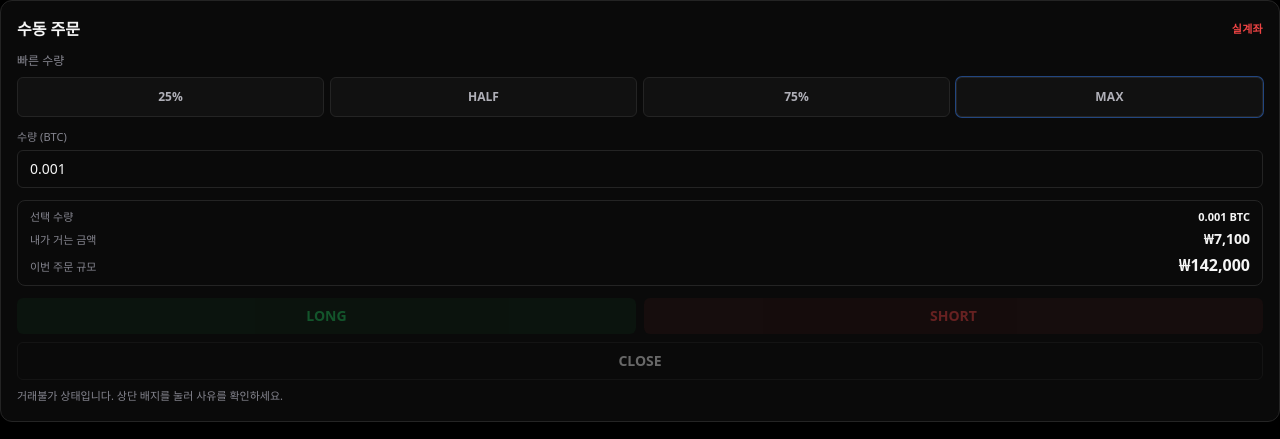
Test: LIVE ticket › LIVE MAX (and every quick size): KRW notional from Binance's mark and the display rate
Click the button with test id "live-preset-MAX" at (1110, 97), box [956,77,1263,117]
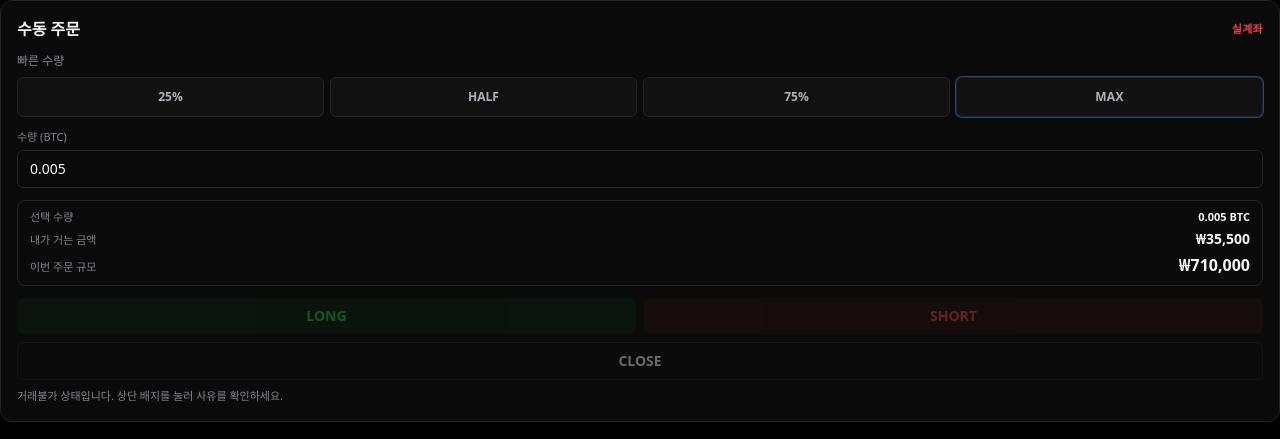
Result: the field with test id "live-qty-input" holds "0.005" at [17,150,1263,188]
Click the button "HALF" at (484, 97), box [330,77,637,117]
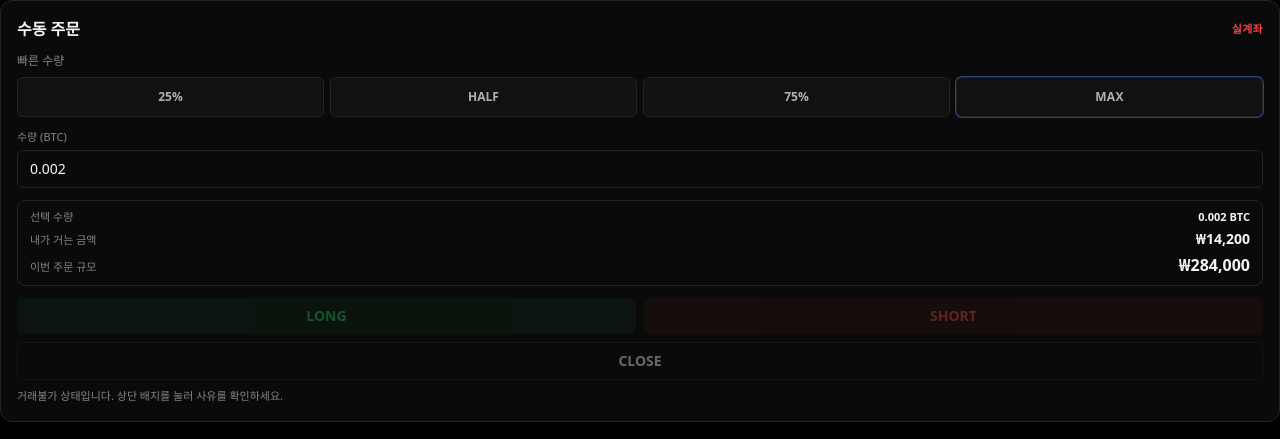
Result: the field with test id "live-qty-input" holds "0.002" at [17,150,1263,188]
Click the button "25%" at (170, 97), box [17,77,324,117]
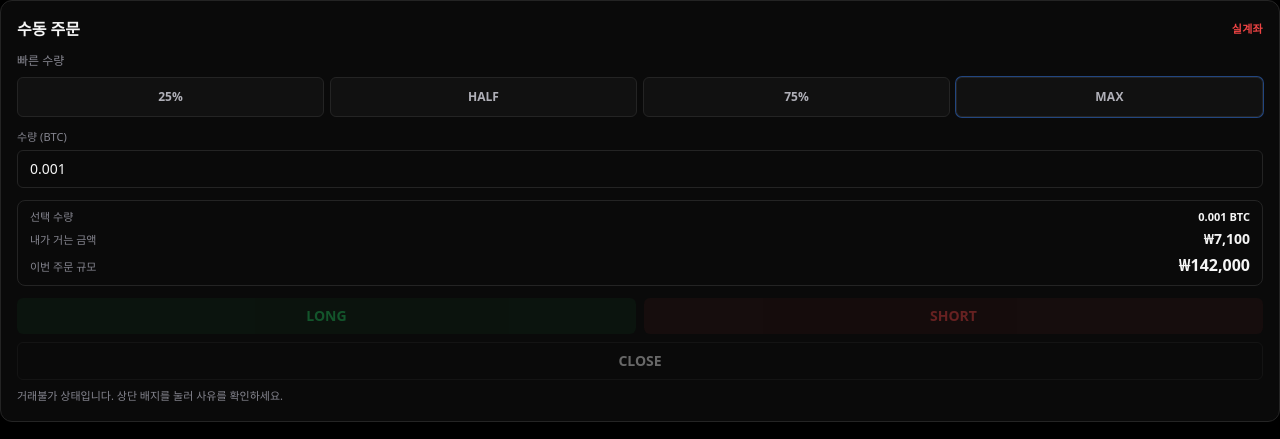
Result: the field with test id "live-qty-input" holds "0.001" at [17,150,1263,188]
Click the button "75%" at (796, 97), box [643,77,950,117]
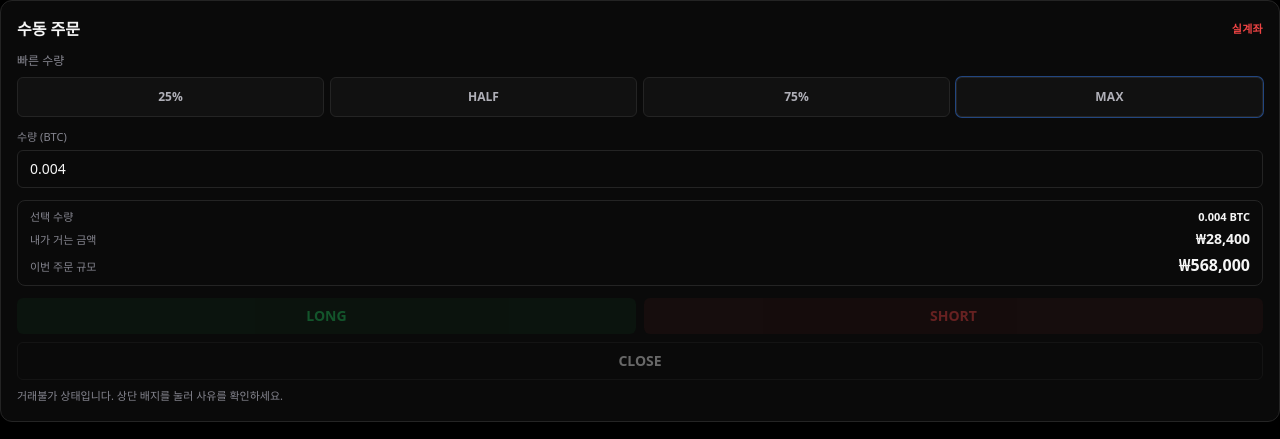
Result: the field with test id "live-qty-input" holds "0.004" at [17,150,1263,188]
